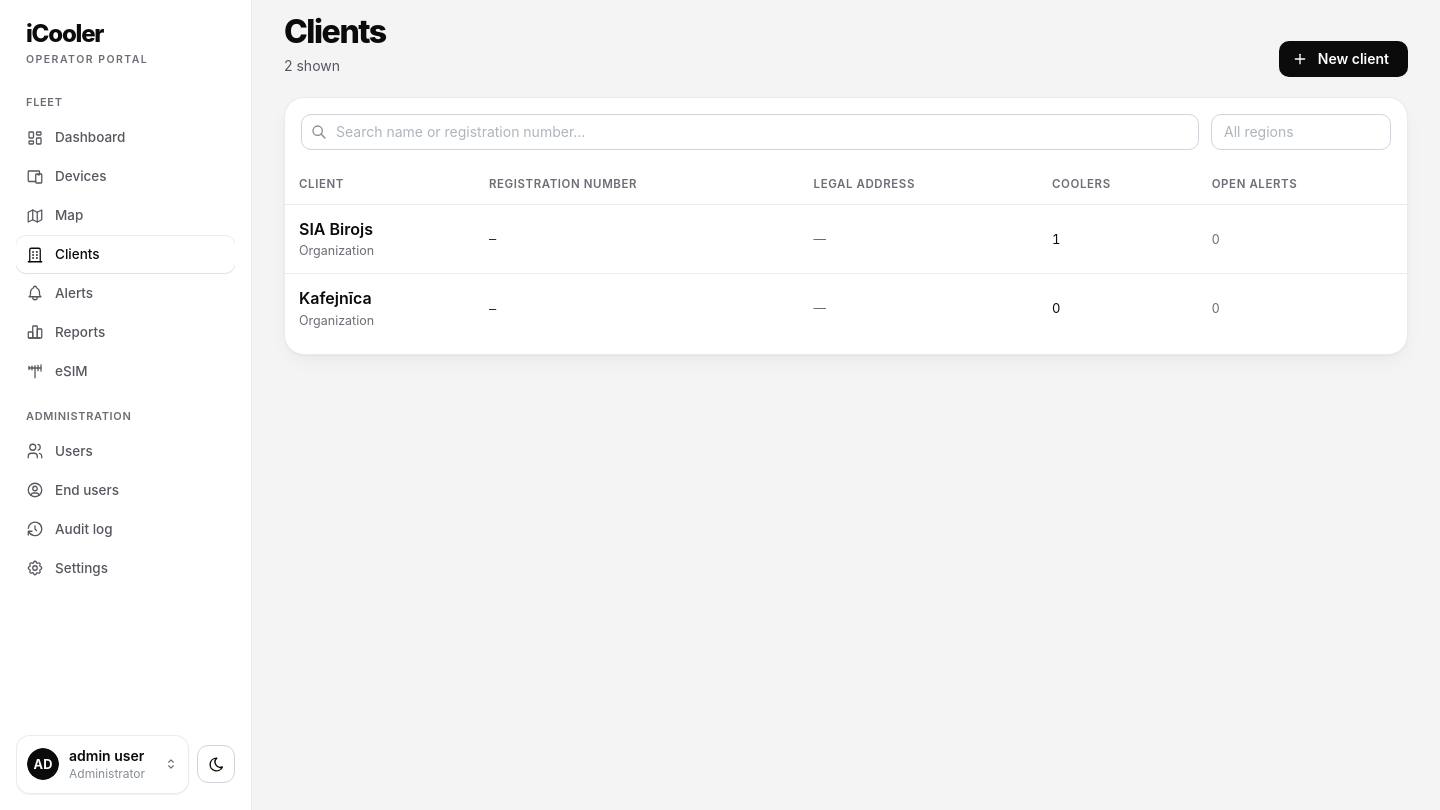
Test: клиенты › создание — тело по контракту и переход в карточку; карточка — адреса, контакты, кулеры
This screenshot has width=1440, height=810.
Check: the link "SIA Birojs" is shown, box [299,219,373,239]
Click the button "New client". click: [1343, 59]
box: [1279,41,1408,77]
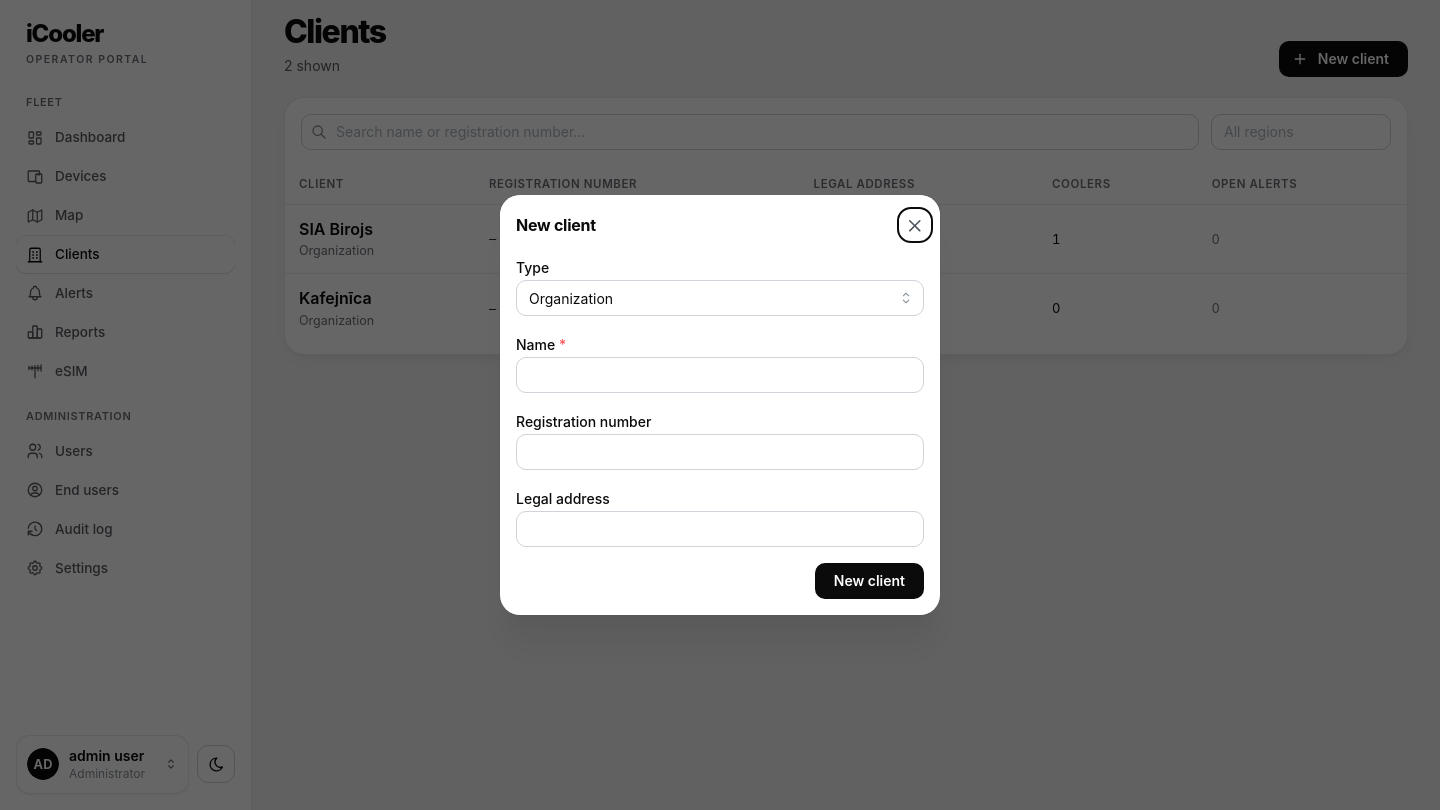
Type "SIA Birojs" into the field labelled "Name *". click: [720, 375]
box: [516,357,924,393]
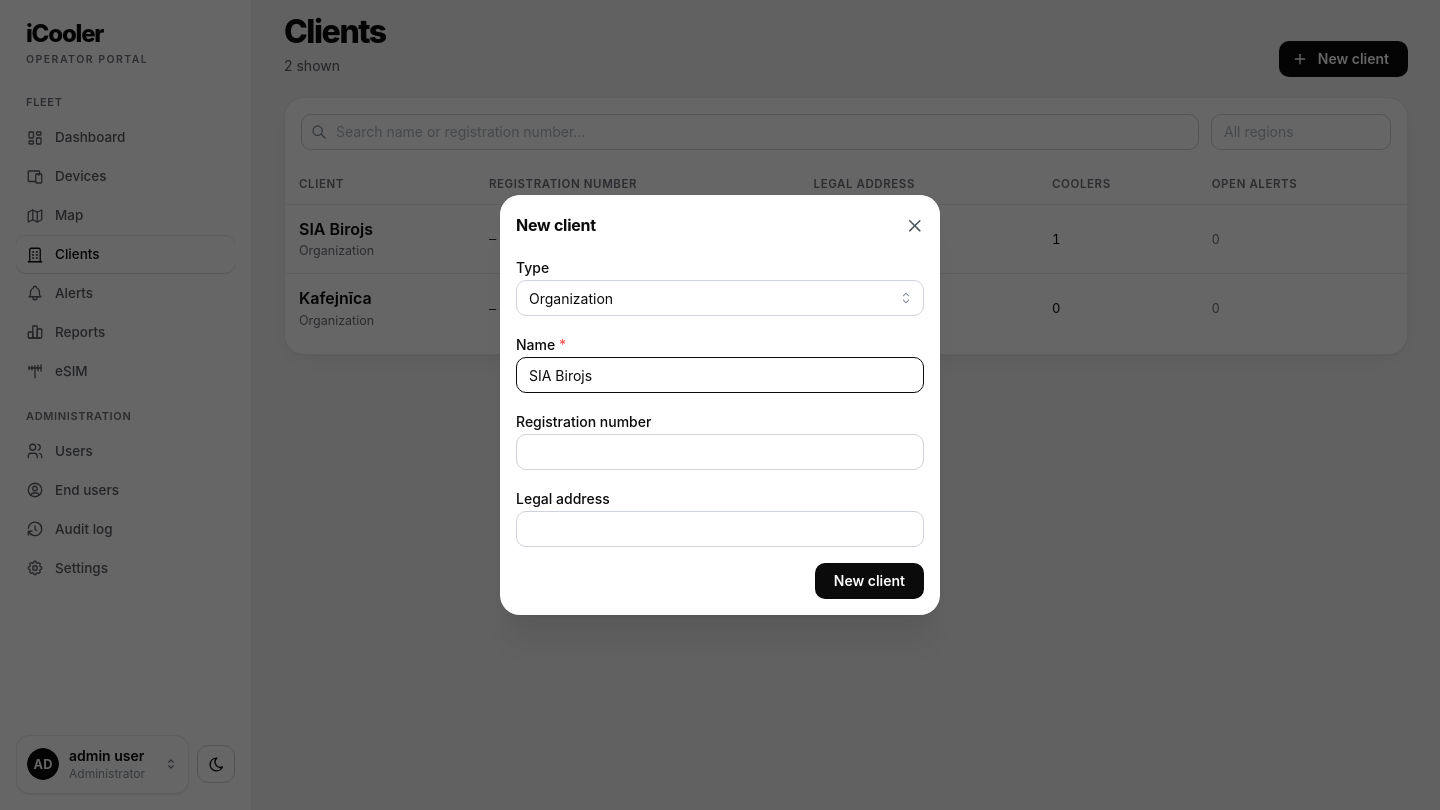
Type "40003000000" into the field labelled "Registration number". click: [720, 452]
box: [516,434,924,470]
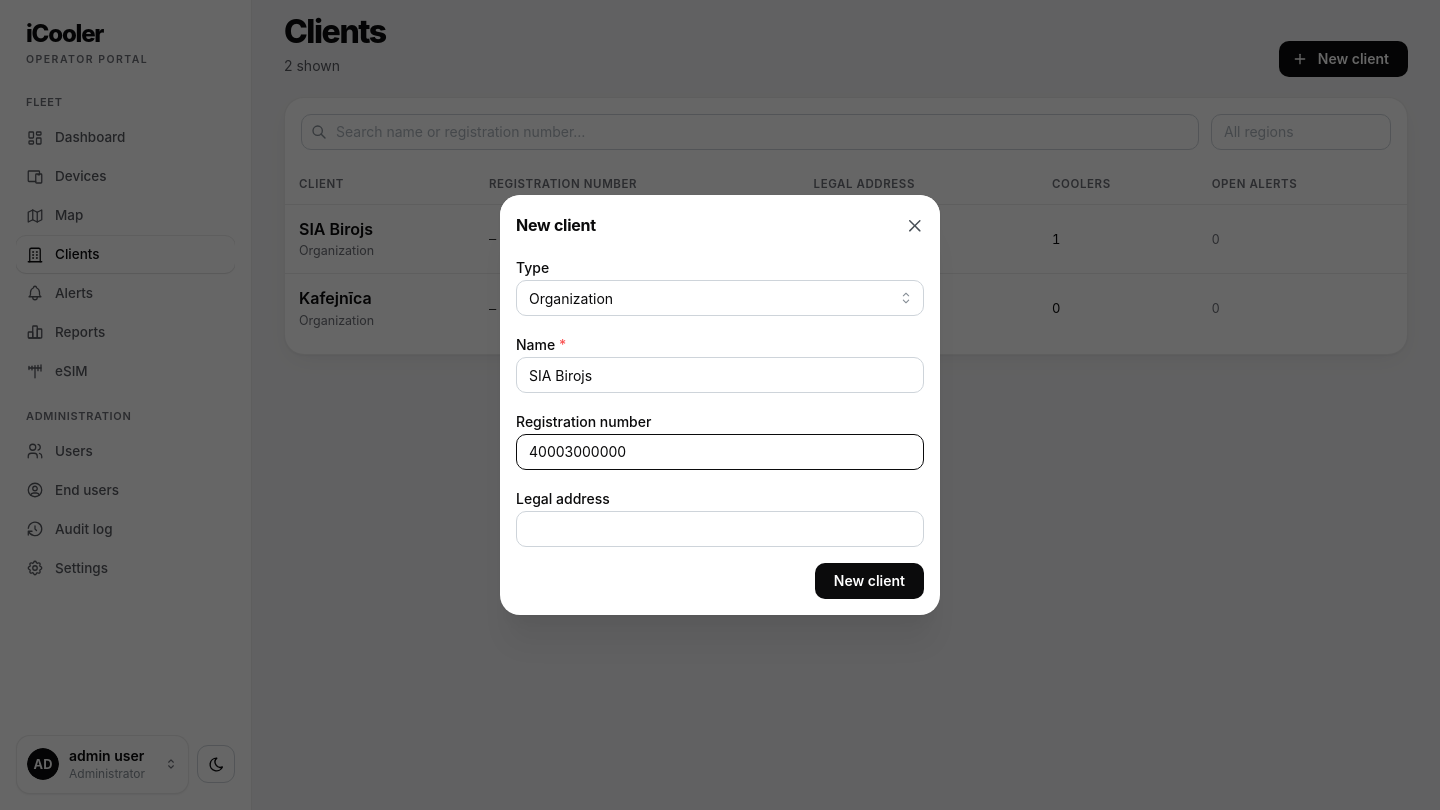
Click the button "New client". click: [869, 581]
box: [815,563,924,599]
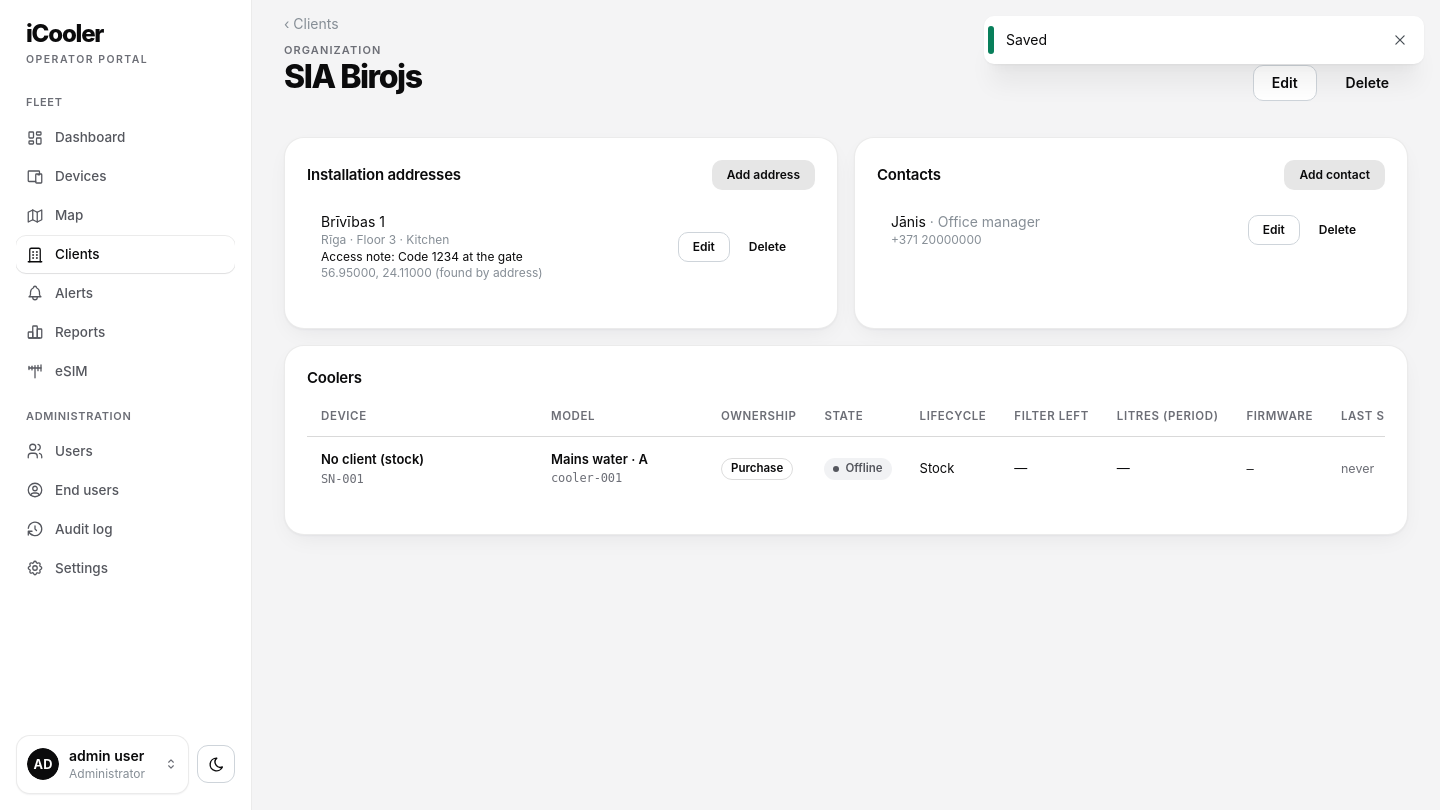
Check: the heading "SIA Birojs" is shown, box [284,59,422,94]
Check: the text "Brīvības 1" is shown, box [321,212,385,230]
Check: the text "Rīga · Floor 3 · Kitchen" is shown, box [321,232,449,247]
